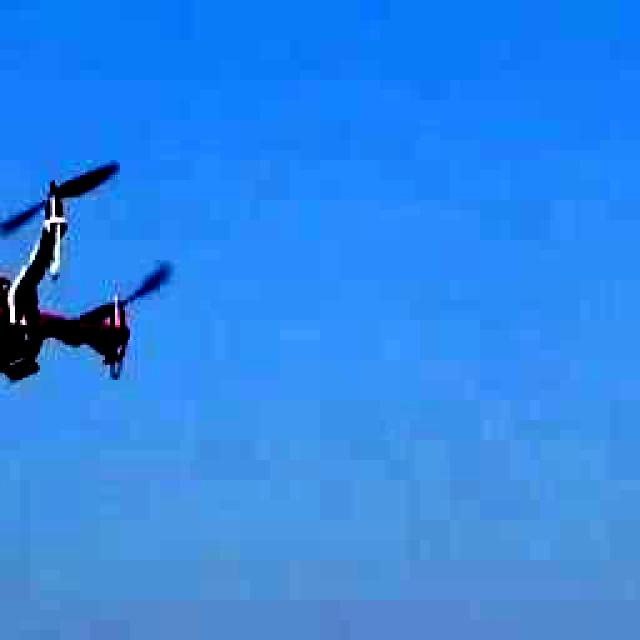bird: (0, 115, 184, 430)
